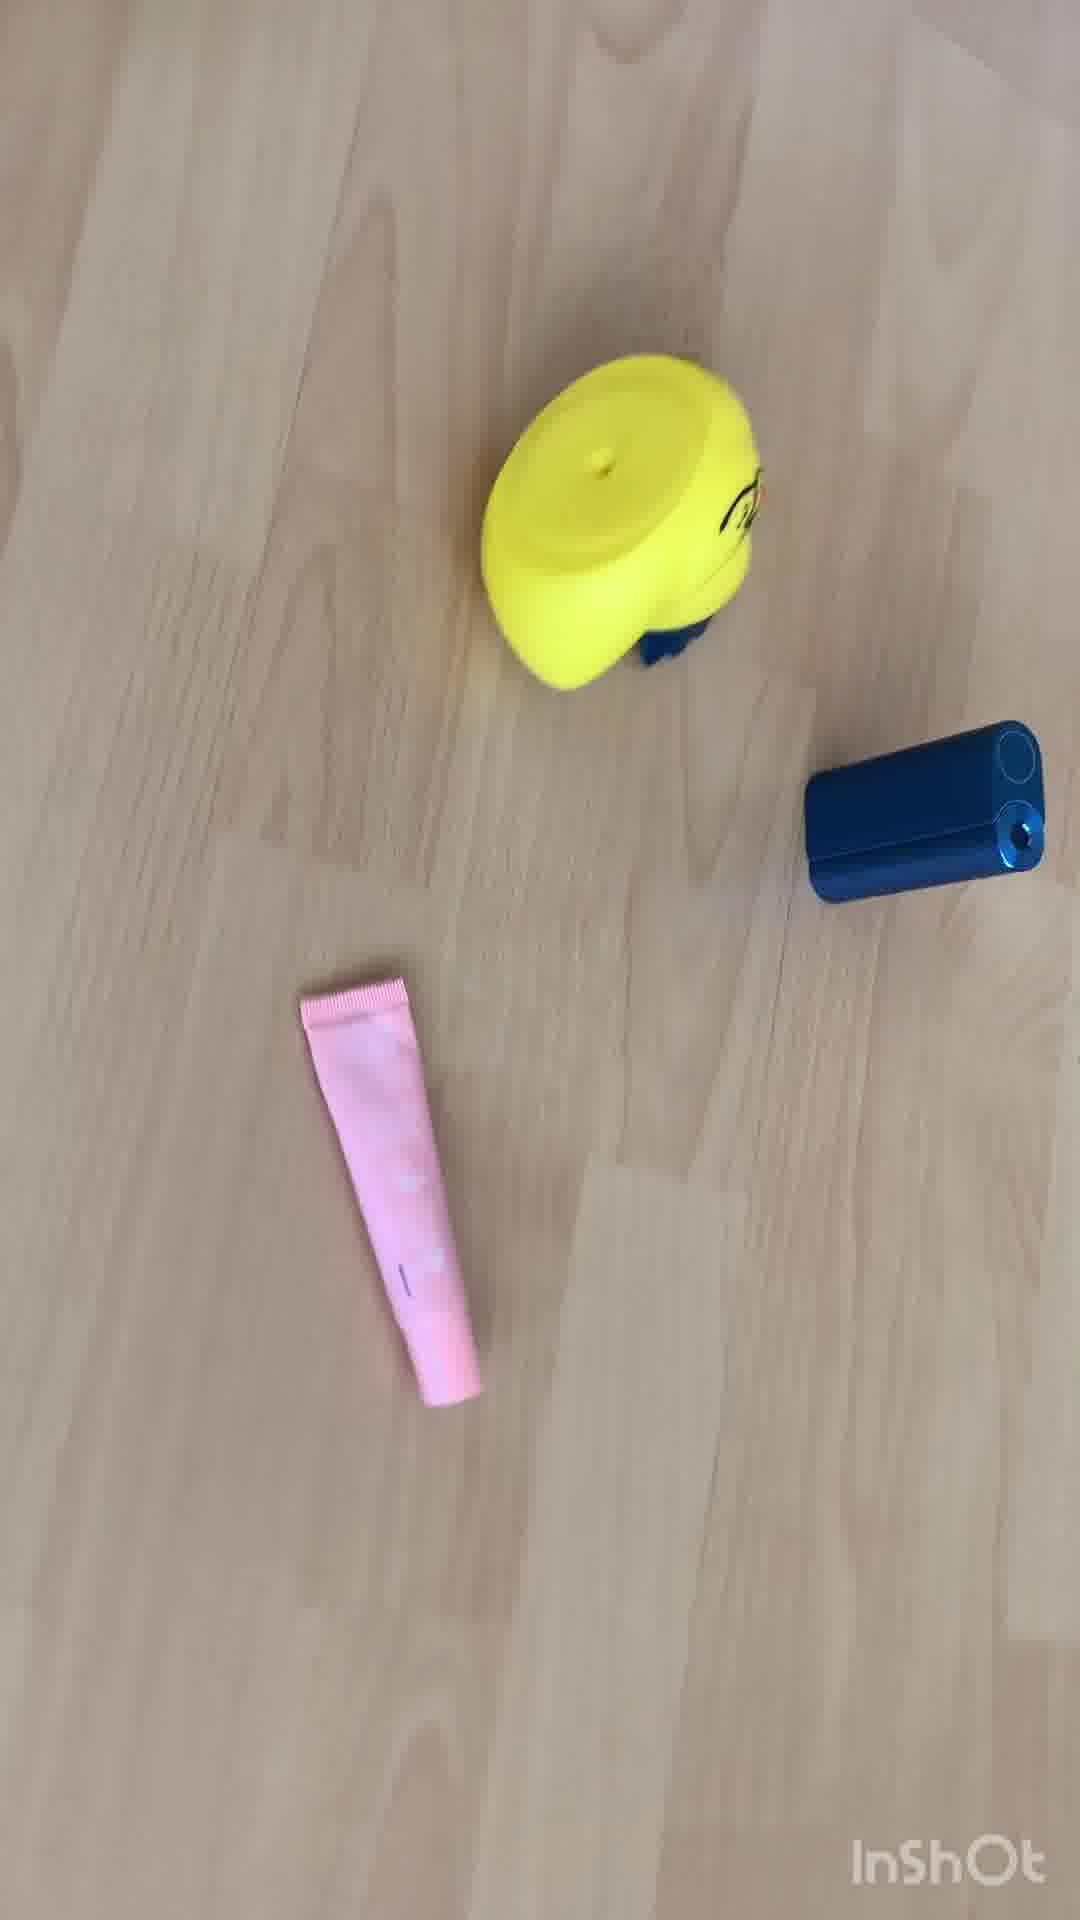duck: (467, 345, 771, 684)
glo: (804, 728, 1046, 909)
lip balm: (290, 980, 500, 1428)
